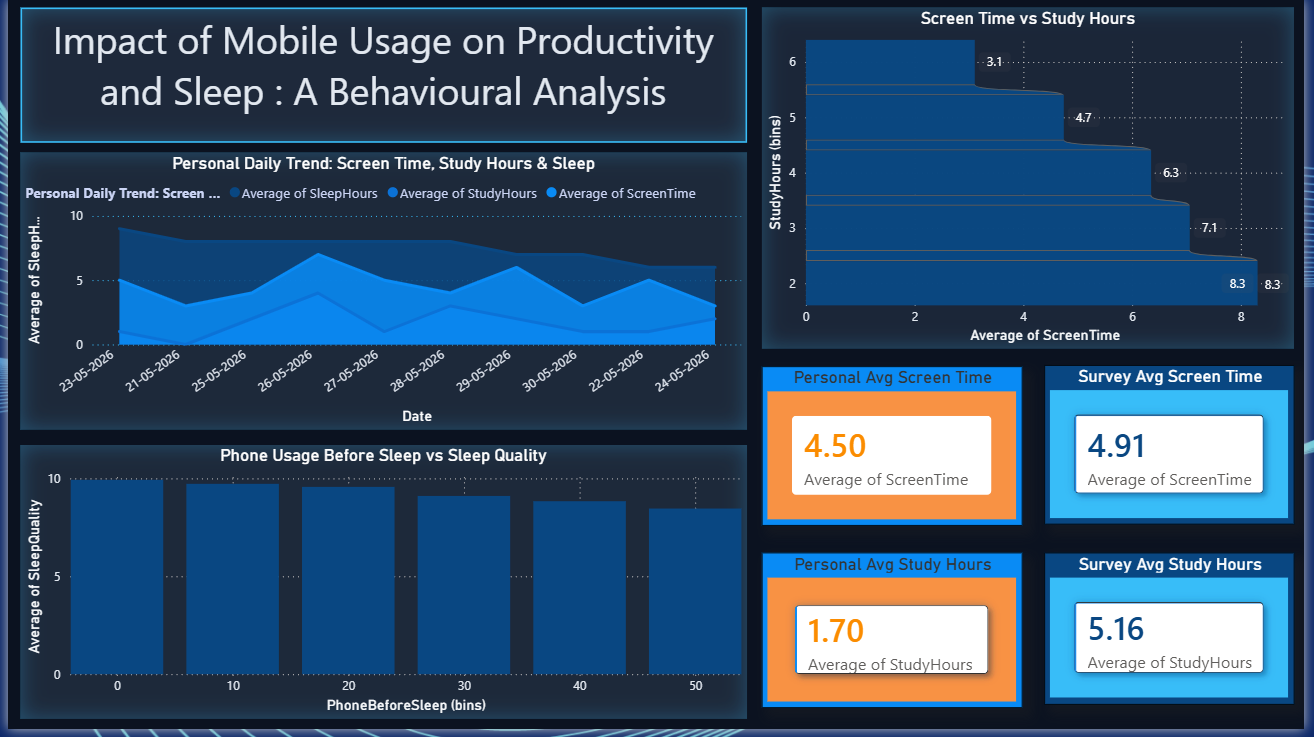

This screenshot's page, from the dashboard's own definition file:
{"tool":"powerbi","page":{"name":"Page 1","canvas":[1280,720],"ordinal":0},"visuals":[{"type":"barChart","title":"Screen Time vs Study Hours","fields":{"Y":["Avg(Form_Responses.ScreenTime)"],"Category":["Form_Responses.StudyHours (bins)"]},"box":[744.9,7.7,525.6,337.2],"z":0},{"type":"columnChart","title":"Phone Usage Before Sleep vs Sleep Quality","fields":{"Y":["Avg(Form_Responses.SleepQuality)"],"Category":["Form_Responses.PhoneBeforeSleep (bins)"]},"box":[12.3,439.5,717.3,270.4],"z":1000},{"type":"lineChart","title":"Personal Daily Trend: Screen Time, Study Hours & Sleep","fields":{"Y":["Avg(Table1.SleepHours )","Avg(Table1.StudyHours )","Avg(Table1.ScreenTime )"],"Category":["Table1.Date "]},"box":[12,150.7,717.3,273.3],"z":2000},{"type":"cardVisual","title":"Personal Avg Screen Time","fields":{"Data":["Avg(Table1.ScreenTime )"]},"box":[744.9,361.5,257.7,157.7],"z":3000},{"type":"cardVisual","title":"Survey Avg Screen Time","fields":{"Data":["Avg(Form_Responses.ScreenTime)"]},"box":[1023.1,360.3,247.4,157.7],"z":4000},{"type":"cardVisual","title":"Survey Avg Study Hours","fields":{"Data":["Avg(Form_Responses.StudyHours)"]},"box":[1023.1,546.2,247.4,150],"z":5000},{"type":"cardVisual","title":"Personal Avg Study Hours","fields":{"Data":["Avg(Table1.StudyHours )"]},"box":[744.9,546.2,257.7,153.8],"z":6000},{"type":"textbox","box":[12,8,717.3,133.3],"z":7000}]}

Visuals, with their boxes in screenshot pixels (x1, y1, x2, y2), scaled from the page's 1280x720 canvas onto the 1314x737 screenshot:
"Screen Time vs Study Hours" barChart: Rect(765, 8, 1304, 353)
"Phone Usage Before Sleep vs Sleep Quality" columnChart: Rect(13, 450, 749, 727)
"Personal Daily Trend: Screen Time, Study Hours & Sleep" lineChart: Rect(12, 154, 749, 434)
"Personal Avg Screen Time" cardVisual: Rect(765, 370, 1029, 531)
"Survey Avg Screen Time" cardVisual: Rect(1050, 369, 1304, 530)
"Survey Avg Study Hours" cardVisual: Rect(1050, 559, 1304, 713)
"Personal Avg Study Hours" cardVisual: Rect(765, 559, 1029, 717)
textbox: Rect(12, 8, 749, 145)
